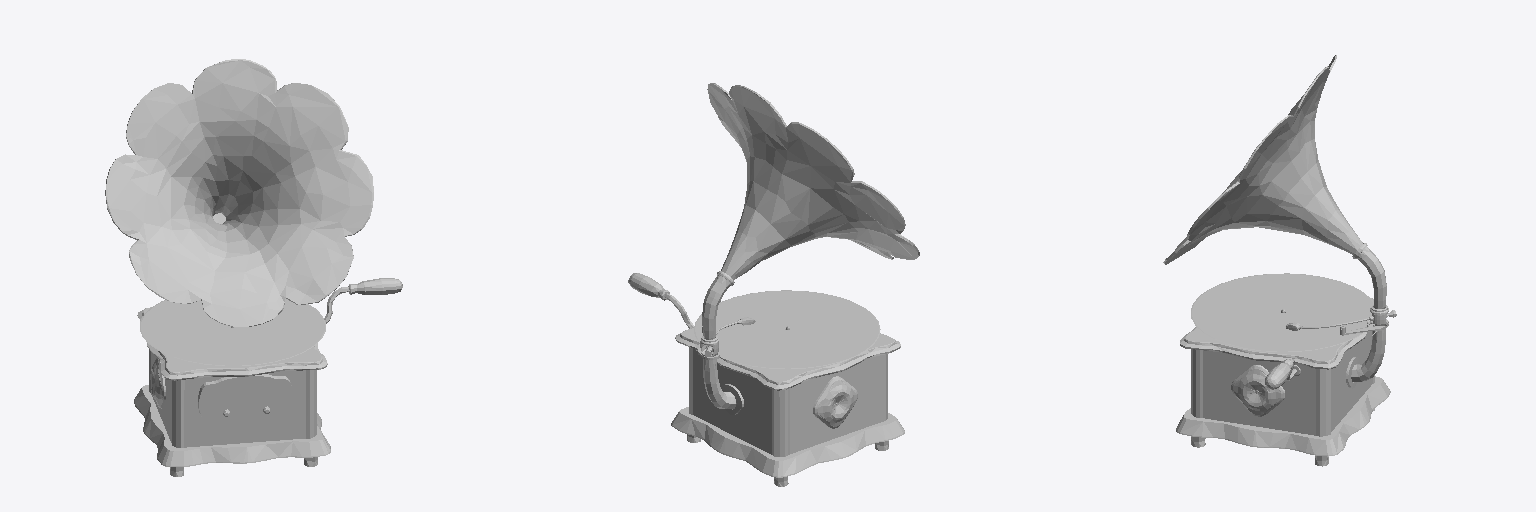
Rendered from RecordpLayer_vintage_solo_scene_GOBACK_TO_PREVIOUS_TEST.obj.
3 views of the same model, side by side, from view 1: azimuth 30°, elevation 25°; view 2: azimuth 150°, elevation 25°; view 3: azimuth 270°, elevation 25° (orthographic).
Parts seen in each view (by area): view 1: recordplayer, circul; view 2: recordplayer, circul; view 3: recordplayer, circul.
Boxes of the visible parts, x1=… form: recordplayer: x1=105, y1=59, x2=402, y2=476; circul: x1=140, y1=298, x2=325, y2=365; recordplayer: x1=628, y1=83, x2=919, y2=486; circul: x1=694, y1=290, x2=880, y2=368; recordplayer: x1=1163, y1=55, x2=1396, y2=466; circul: x1=1191, y1=273, x2=1373, y2=351.
Bounding box in the file's own units: 98.02 × 120 × 69.62.